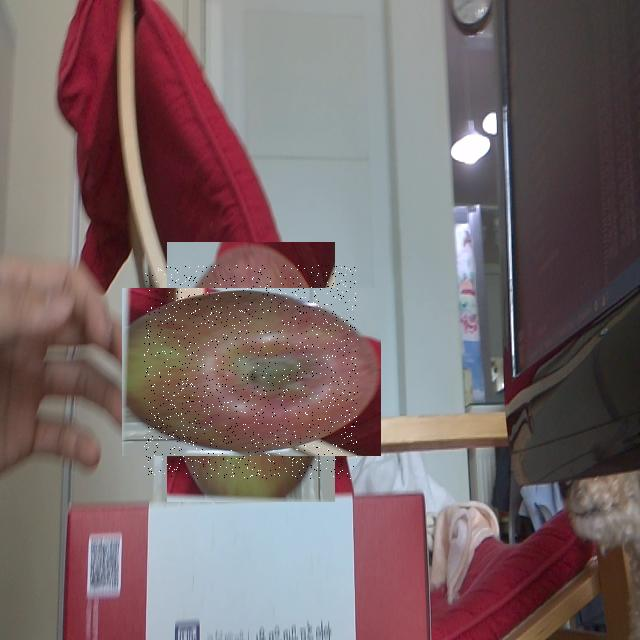apple: (144, 265, 358, 479)
